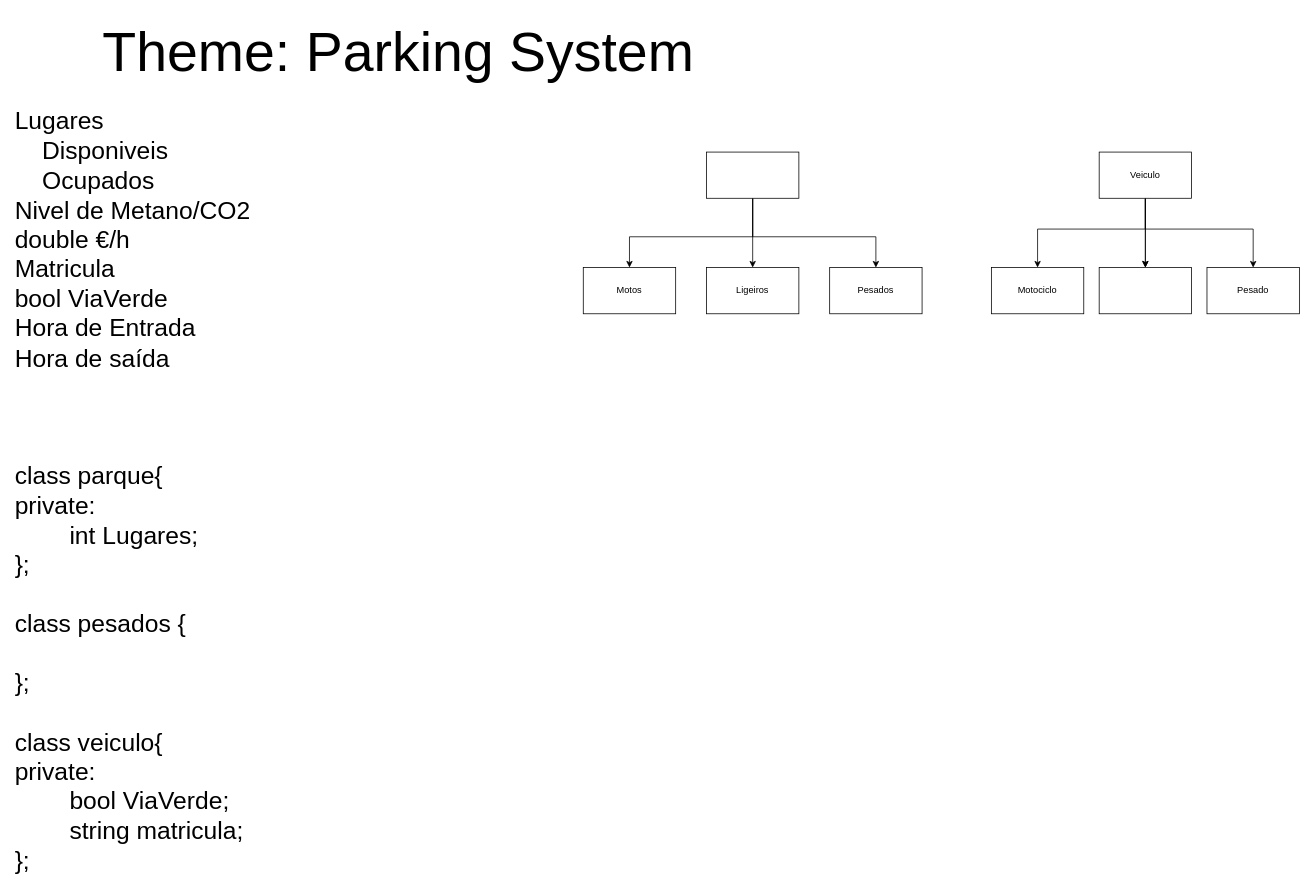
The diagram is 1313 pixels wide and 888 high, and some of its shapes have lost their labels. The centre of each missing label's shape, as x and y in pixels:
"Ligeiro" belongs at point (1145, 290).
"Parque" belongs at point (752, 174).
